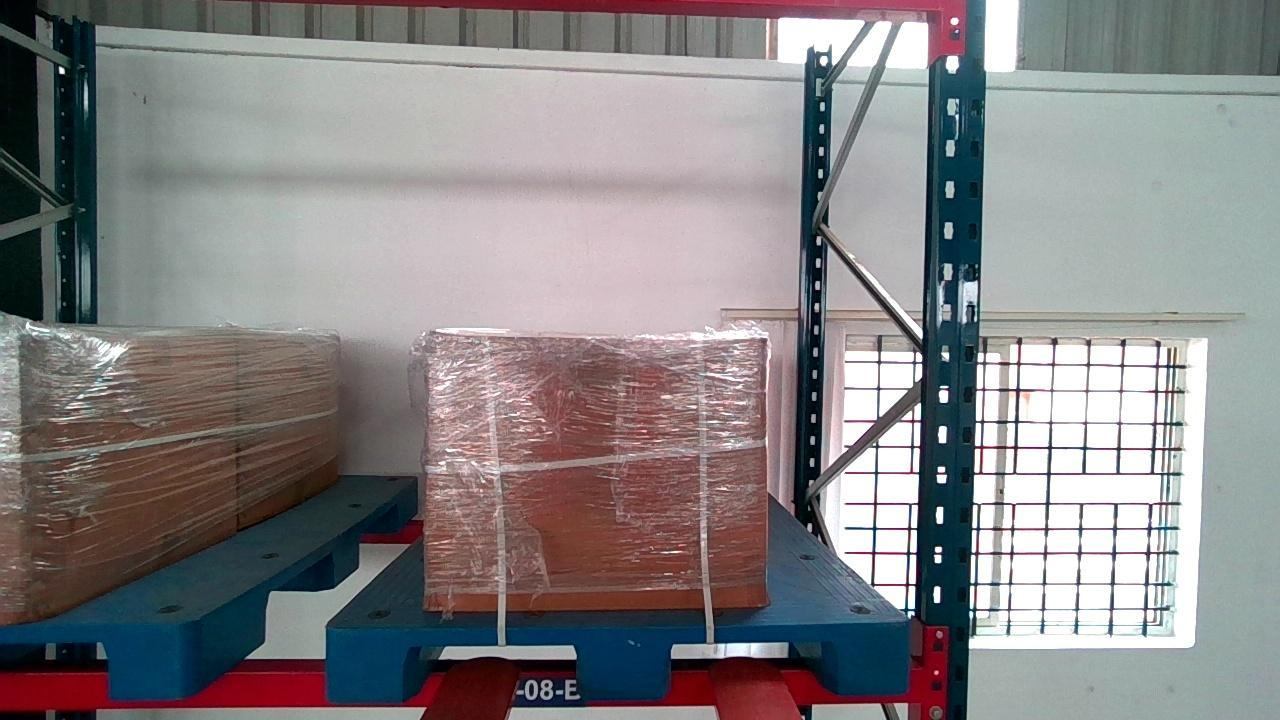small_pallet: (327, 619, 906, 700)
